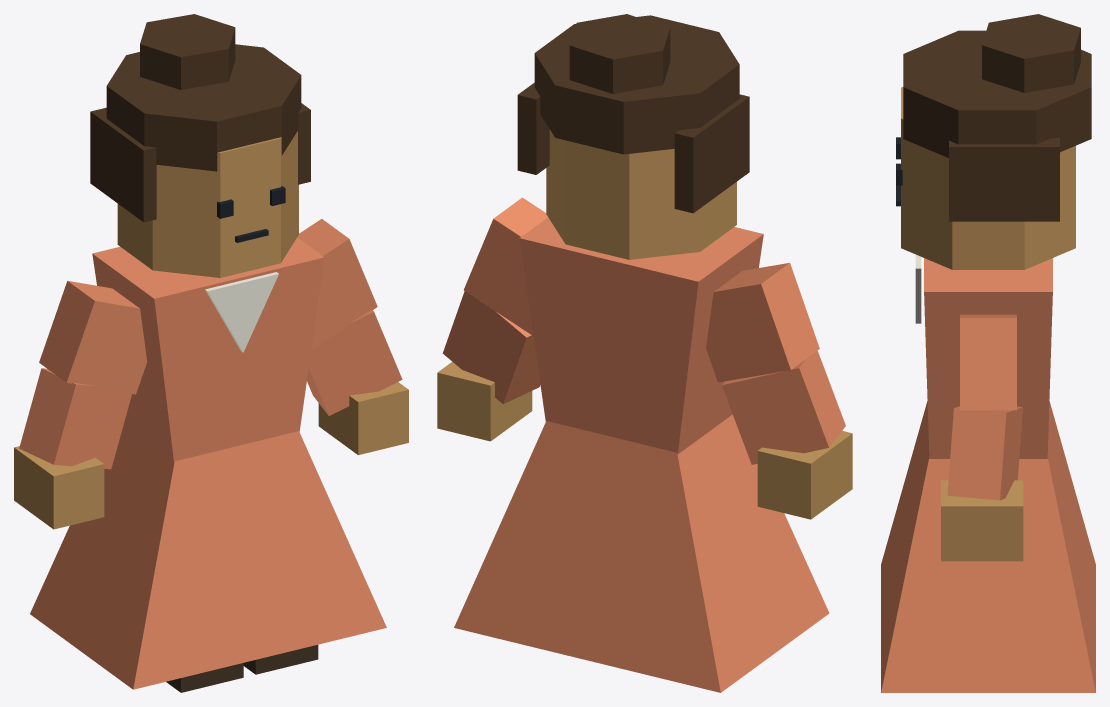
Rendered from Angelica.glb.
The picture shows the model from 3 angles, left to right: view 1: azimuth 30°, elevation 25°; view 2: azimuth 150°, elevation 25°; view 3: azimuth 270°, elevation 25°; orthographic projection. The views are drawn at different scales.
Visible parts, largest first — view 1: Body_M_CastV02_coral_ed8e65, Body_M_CastV02_hair_4d3722, Body_M_CastV02_skin_c8995b, Body_M_CastV02_white_f9f7ea, Body; view 2: Body_M_CastV02_coral_ed8e65, Body_M_CastV02_hair_4d3722, Body_M_CastV02_skin_c8995b; view 3: Body_M_CastV02_coral_ed8e65, Body_M_CastV02_hair_4d3722, Body_M_CastV02_skin_c8995b, Body_M_CastV02_white_f9f7ea.
Boxes of the visible parts, x1=… form: Body_M_CastV02_coral_ed8e65: x1=19, y1=219, x2=402, y2=689; Body_M_CastV02_hair_4d3722: x1=90, y1=14, x2=310, y2=222; Body_M_CastV02_skin_c8995b: x1=14, y1=131, x2=408, y2=529; Body_M_CastV02_white_f9f7ea: x1=205, y1=272, x2=278, y2=352; Body: x1=166, y1=644, x2=318, y2=692; Body_M_CastV02_coral_ed8e65: x1=442, y1=197, x2=845, y2=692; Body_M_CastV02_hair_4d3722: x1=517, y1=14, x2=749, y2=213; Body_M_CastV02_skin_c8995b: x1=437, y1=129, x2=852, y2=519; Body_M_CastV02_coral_ed8e65: x1=881, y1=258, x2=1095, y2=692; Body_M_CastV02_hair_4d3722: x1=903, y1=14, x2=1091, y2=221; Body_M_CastV02_skin_c8995b: x1=901, y1=87, x2=1075, y2=561; Body_M_CastV02_white_f9f7ea: x1=915, y1=254, x2=921, y2=323.
Size of the model in its own units: 1.23 by 1.9 by 0.6.
